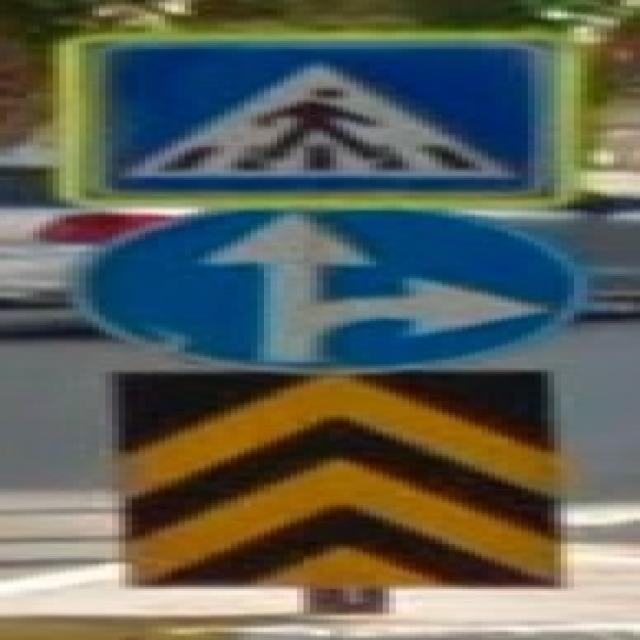Straight or Right: (94, 210, 582, 369)
